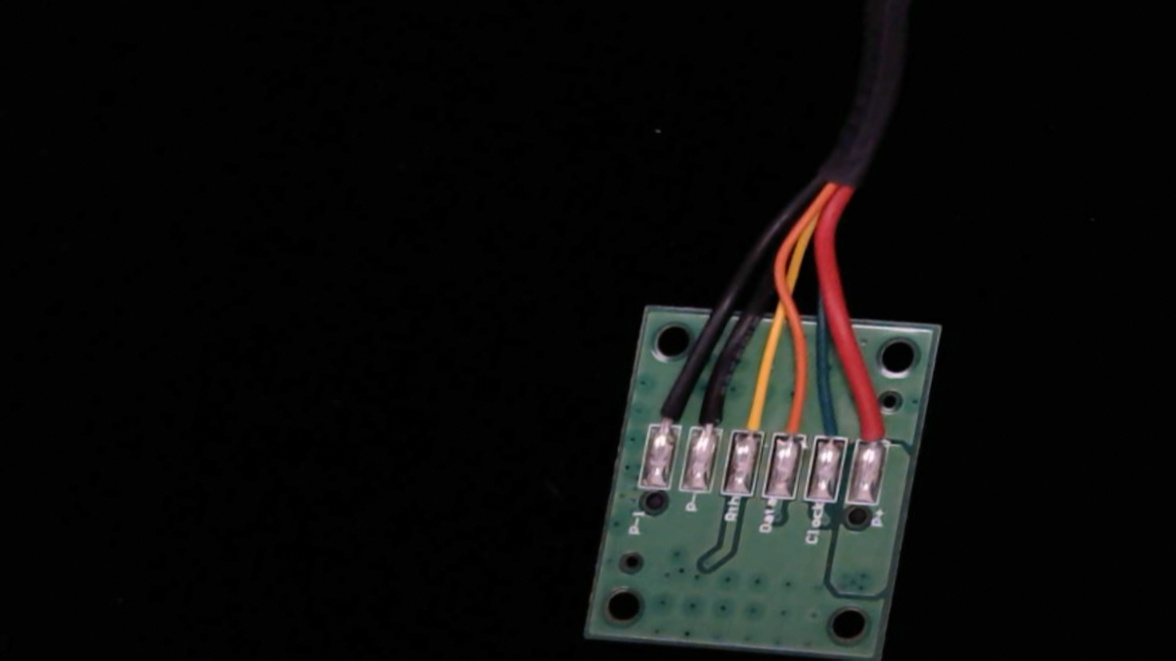Black: (683, 370, 738, 448)
Black1: (642, 372, 695, 443)
Green: (809, 397, 859, 460)
Orange: (767, 380, 820, 456)
Red: (848, 400, 899, 463)
Yellow: (723, 374, 779, 453)
